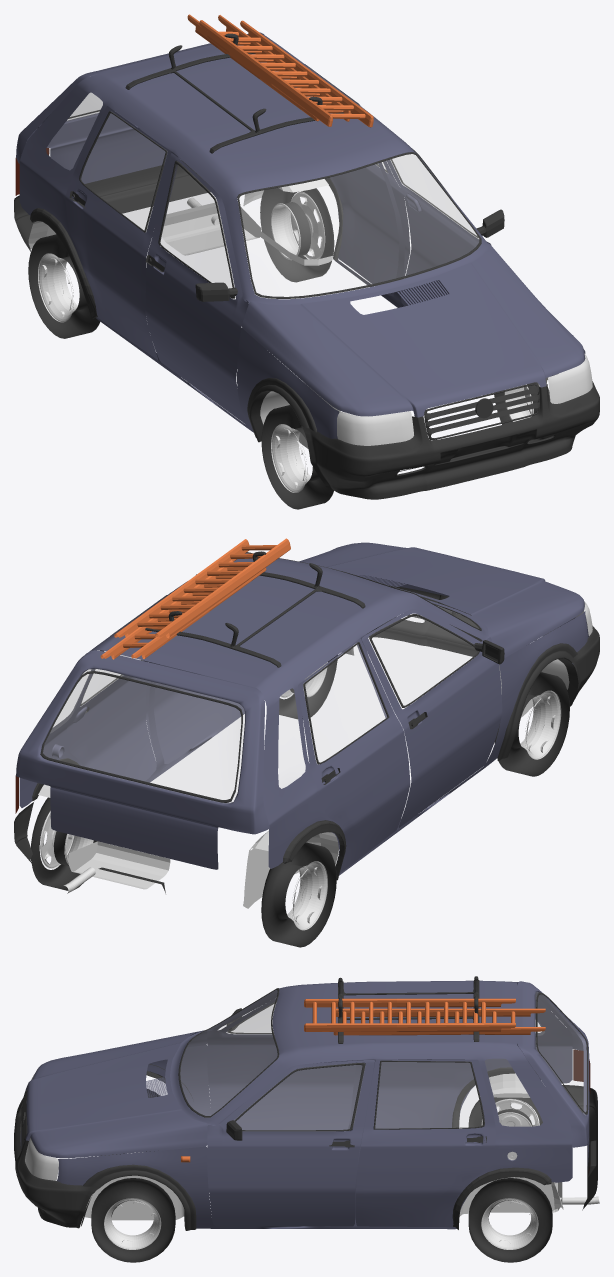
Rendered from fiat_uno.gltf.
3 renders of one model, top to bottom at view 1: azimuth 30°, elevation 25°; view 2: azimuth 150°, elevation 25°; view 3: azimuth 270°, elevation 25°, orthographic. The views are drawn at different scales.
Visible parts, largest first — view 1: lataria, capo, parabrisa, portas traseiras, portas dianteiras, para choque, vidro portas frontais, porta malas, vidros portas traseiras, escadas.001, farol, para choque traseiro (+18 smaller); view 2: lataria, porta malas, vidro traseiro porta malas .001, portas traseiras, portas dianteiras, capo, vidros portas traseiras, vidro portas frontais, escadas.001, pneu.004, para choque, escapamento (+17 smaller); view 3: lataria, portas dianteiras, portas traseiras, capo, parabrisa, vidros portas traseiras, vidro portas frontais, escadas.001, porta malas, pneu.001, pneu, para choque (+20 smaller).
Part boxes in pixels (bbox=[...]): lataria: bbox=[19, 34, 585, 438]; capo: bbox=[242, 243, 584, 417]; parabrisa: bbox=[239, 154, 478, 296]; portas traseiras: bbox=[65, 96, 410, 359]; portas dianteiras: bbox=[145, 132, 491, 423]; para choque: bbox=[302, 381, 599, 499]; vidro portas frontais: bbox=[161, 154, 477, 287]; porta malas: bbox=[16, 32, 264, 183]; vidros portas traseiras: bbox=[81, 114, 387, 229]; escadas.001: bbox=[199, 20, 373, 127]; farol: bbox=[337, 353, 592, 445]; para choque traseiro: bbox=[14, 160, 211, 251]; lataria: bbox=[19, 553, 588, 875]; porta malas: bbox=[16, 650, 269, 869]; vidro traseiro porta malas .001: bbox=[43, 669, 244, 803]; portas traseiras: bbox=[66, 595, 410, 872]; portas dianteiras: bbox=[146, 609, 502, 827]; capo: bbox=[299, 542, 584, 657]; vidros portas traseiras: bbox=[81, 645, 386, 761]; vidro portas frontais: bbox=[369, 616, 476, 705]; escadas.001: bbox=[114, 538, 290, 638]; pneu.004: bbox=[261, 842, 336, 947]; para choque: bbox=[367, 585, 599, 706]; escapamento: bbox=[63, 841, 170, 893]; lataria: bbox=[20, 980, 572, 1229]; portas dianteiras: bbox=[207, 997, 374, 1226]; portas traseiras: bbox=[356, 1059, 495, 1226]; capo: bbox=[25, 1030, 207, 1158]; parabrisa: bbox=[180, 990, 277, 1115]; vidros portas traseiras: bbox=[375, 1062, 482, 1128]; vidro portas frontais: bbox=[228, 1003, 361, 1129]; escadas.001: bbox=[304, 998, 515, 1031]; porta malas: bbox=[517, 981, 589, 1165]; pneu.001: bbox=[91, 1178, 175, 1262]; pneu: bbox=[468, 1178, 552, 1262]; para choque: bbox=[14, 1089, 98, 1228].
Size of the model in its own units: 3.17 by 2.77 by 6.49.
